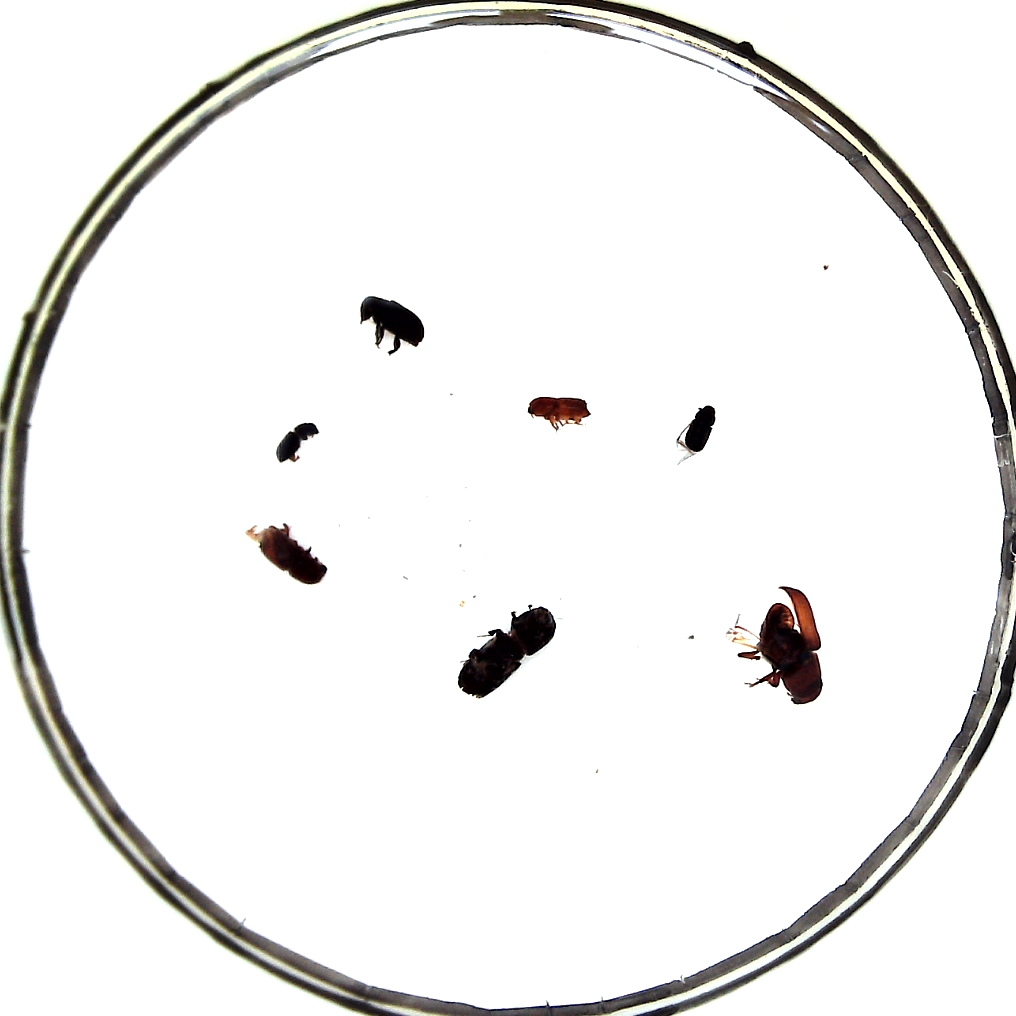Boerner: (459, 604, 559, 701)
Leconte: (742, 583, 829, 705)
Linnaeus: (250, 524, 327, 584)
acuminatus: (526, 393, 592, 429)
armandi: (360, 293, 424, 353)
coleoptera: (277, 420, 320, 466), (684, 405, 717, 456)
